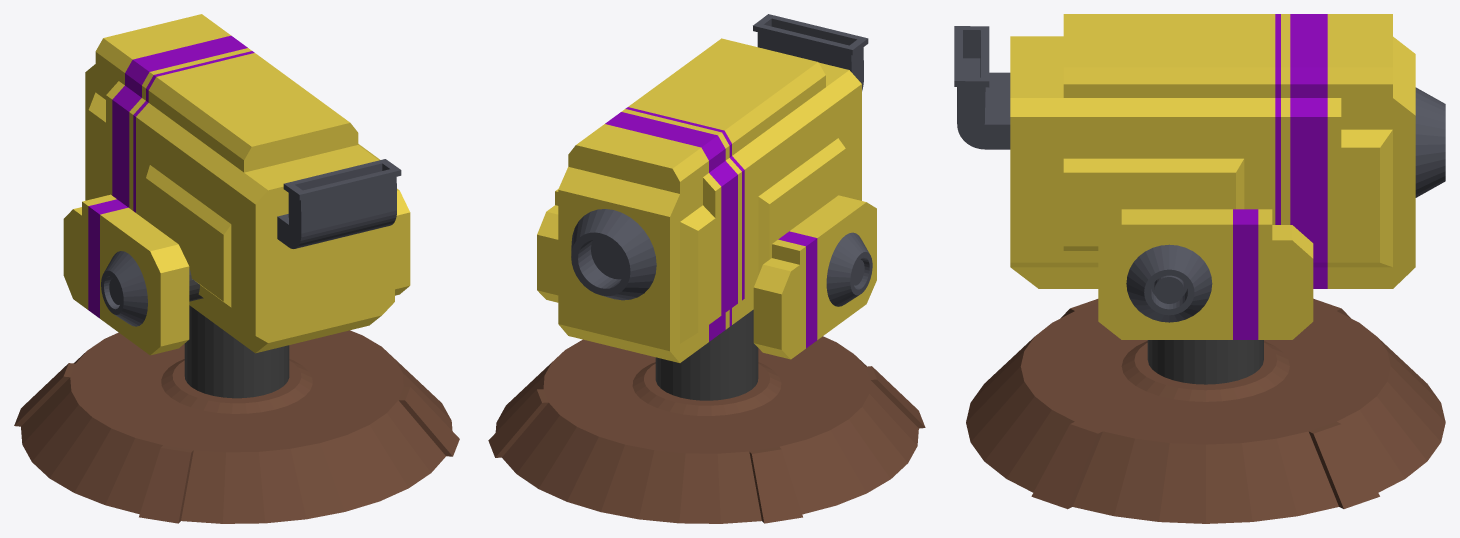
Rendered from Player.fbx.
3 views of the same model, side by side, from view 1: azimuth 30°, elevation 25°; view 2: azimuth 150°, elevation 25°; view 3: azimuth 270°, elevation 25° (orthographic). The views are drawn at different scales.
Parts seen in each view (by area): view 1: Cylinder, Cylinder.003; view 2: Cylinder, Cylinder.003; view 3: Cylinder, Cylinder.003.
Boxes of the visible parts, x1,y1,x2,y2 form: Cylinder: (63, 14, 410, 355); Cylinder.003: (14, 305, 459, 523); Cylinder: (537, 14, 876, 362); Cylinder.003: (488, 309, 925, 523); Cylinder: (954, 14, 1445, 339); Cylinder.003: (966, 298, 1445, 523).
Size of the model in its own units: 214 by 188 by 219.
